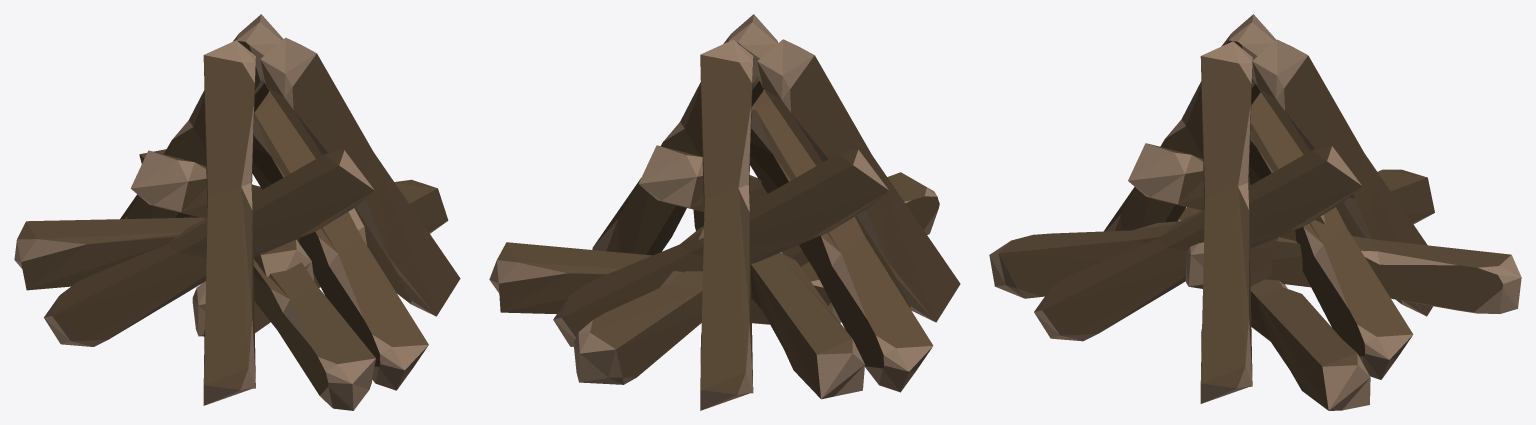
Rendered from Bonfire_01.FBX.
3 views of the same model, side by side, from view 1: azimuth 30°, elevation 25°; view 2: azimuth 150°, elevation 25°; view 3: azimuth 270°, elevation 25° (orthographic). The views are drawn at different scales.
Visible parts, largest first — view 1: Bonfire_01; view 2: Bonfire_01; view 3: Bonfire_01.
Boxes of the visible parts, box(x1,y1,x2,y2) form: Bonfire_01: box(14, 14, 460, 410); Bonfire_01: box(489, 14, 960, 410); Bonfire_01: box(989, 14, 1521, 410).
Size of the model in its own units: 1.76 by 1.21 by 1.96.
